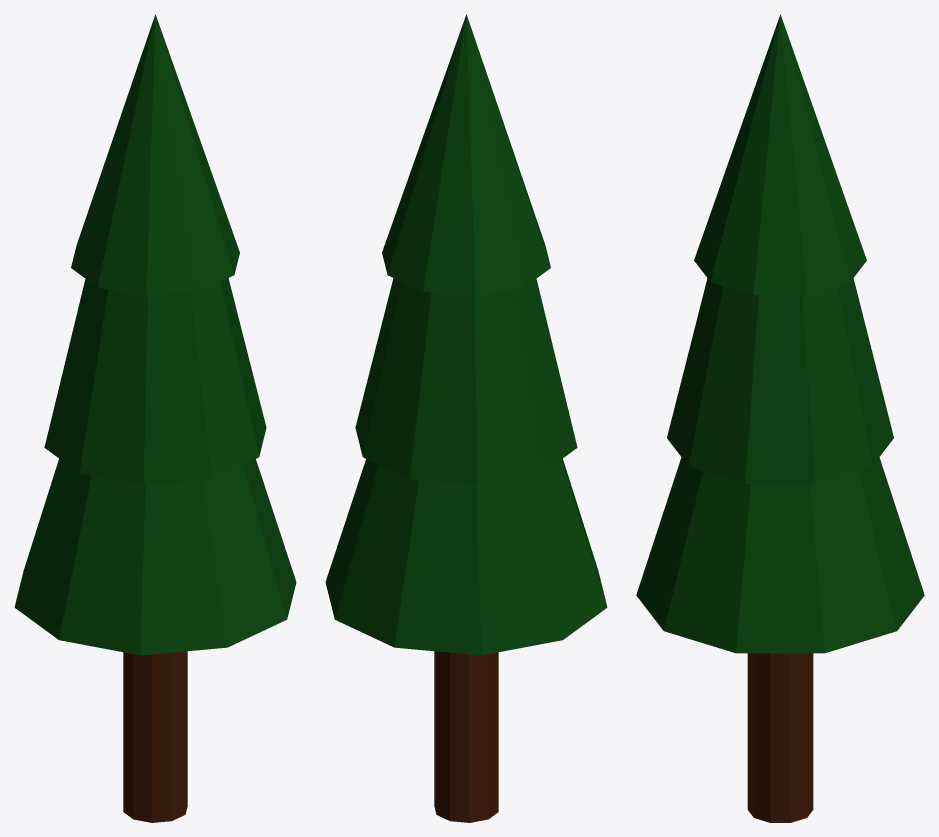
The model's file is tree1.obj.
3 views of the same model, side by side, from view 1: azimuth 30°, elevation 25°; view 2: azimuth 150°, elevation 25°; view 3: azimuth 270°, elevation 25° (orthographic).
Visible parts, largest first — view 1: tree.010; view 2: tree.010; view 3: tree.010.
Part boxes in pixels (left/top/right/bottom): tree.010: left=14, top=14, right=296, bottom=822; tree.010: left=325, top=14, right=607, bottom=822; tree.010: left=636, top=14, right=924, bottom=822.
Bounding box in the file's own units: 2.54 × 8.12 × 2.67.
